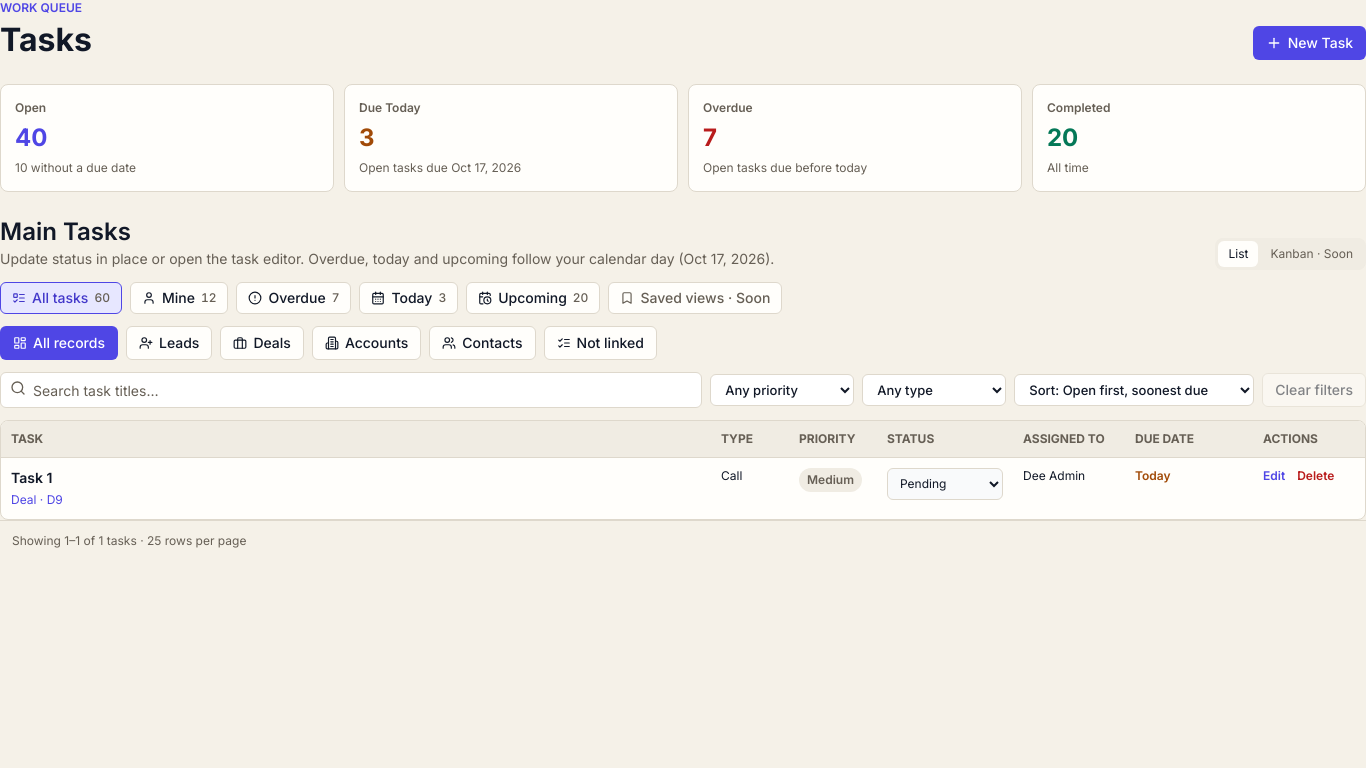
Tasks — one server page, server counts › delete confirmation sits below the table and names what it leaves alone
Click the button "Delete" at (1316, 476), box [1297,468,1334,484]
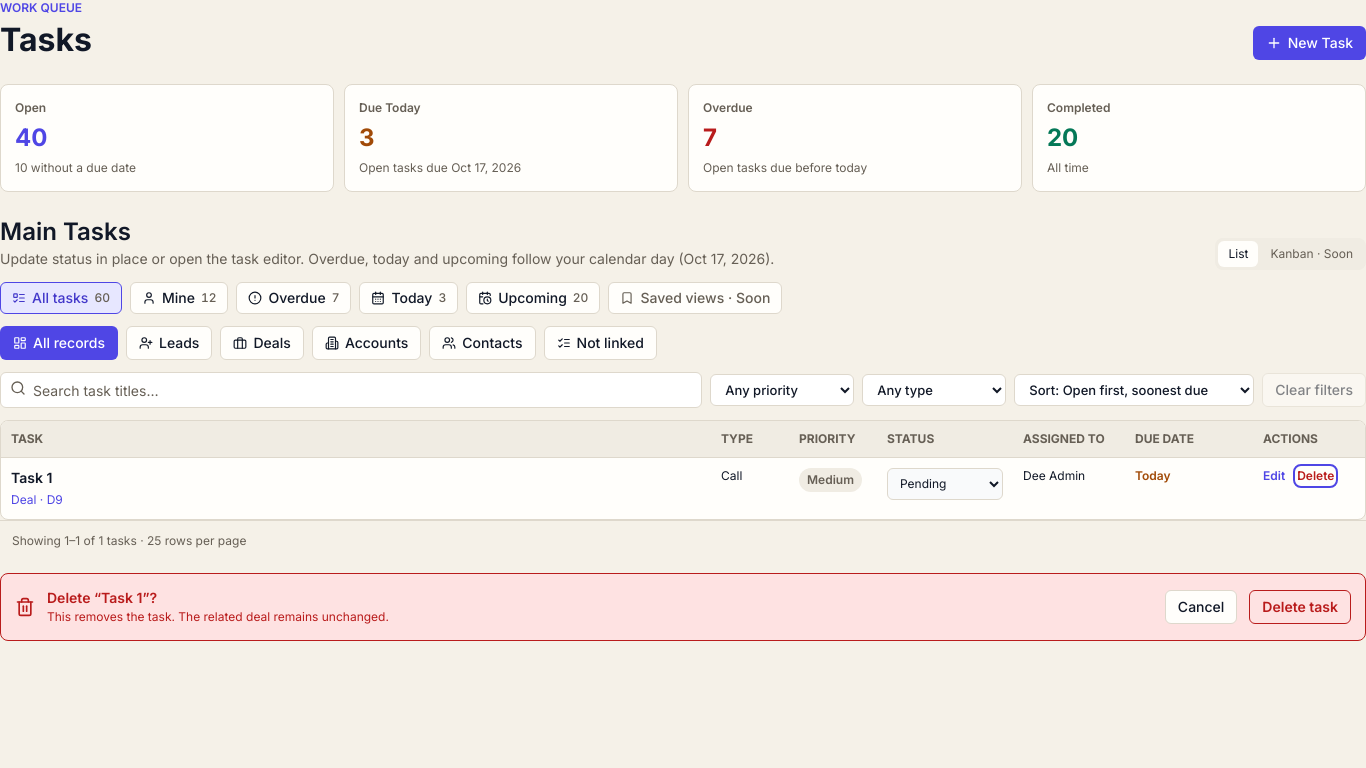
Check: the dialog named "Delete task" shows "This removes the task. The related deal remains unchanged.", box [0,572,1365,640]
